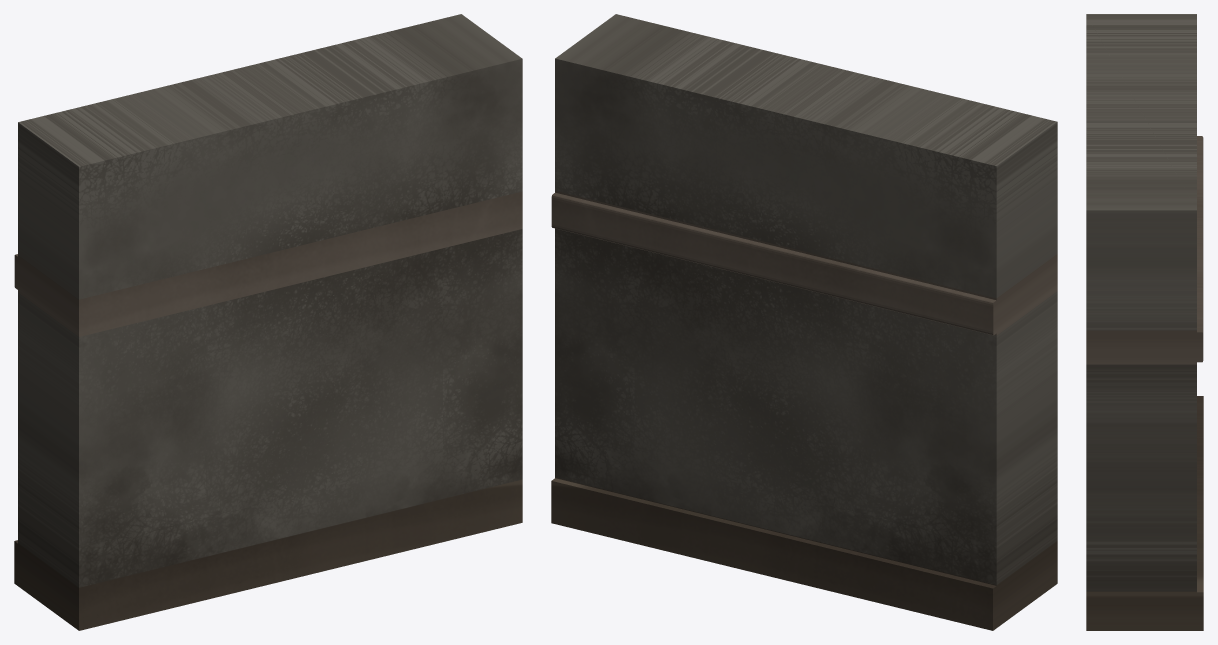
File: Wall_4_R.fbx
3 views of the same model, side by side, from view 1: azimuth 30°, elevation 25°; view 2: azimuth 150°, elevation 25°; view 3: azimuth 270°, elevation 25° (orthographic). The views are drawn at different scales.
Visible parts, largest first — view 1: Wall_4_R; view 2: Wall_4_R; view 3: Wall_4_R.
Boxes of the visible parts, <box> form: Wall_4_R: <box>14,14,522,630</box>; Wall_4_R: <box>551,14,1057,630</box>; Wall_4_R: <box>1086,14,1203,630</box>.
Size of the model in its own units: 4 by 4 by 1.01.
